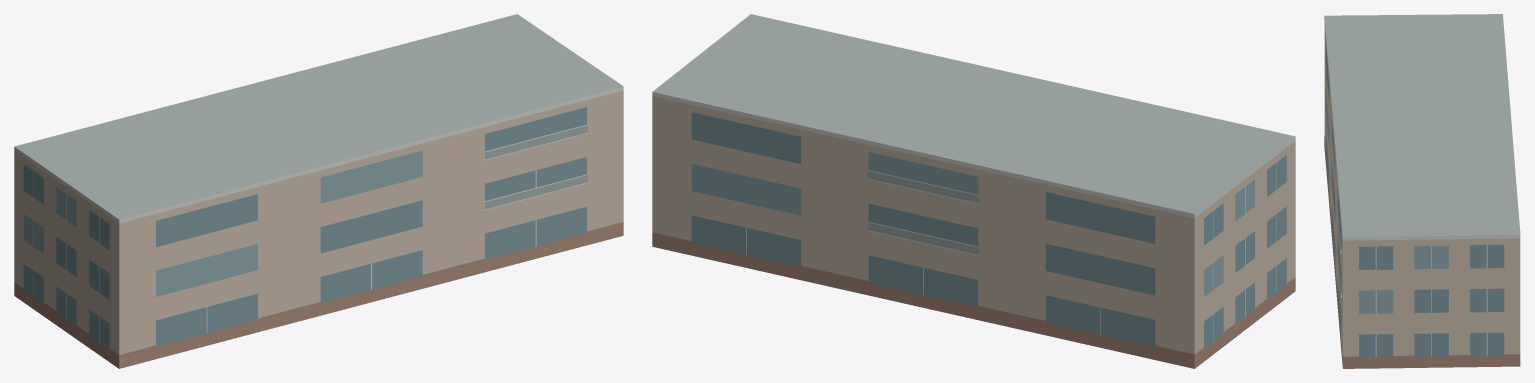
File: survey-upis-32768479.glb
The picture shows the model from 3 angles, left to right: view 1: azimuth 30°, elevation 25°; view 2: azimuth 150°, elevation 25°; view 3: azimuth 270°, elevation 25°; orthographic projection. The views are drawn at different scales.
Visible parts, largest first — view 1: survey-upis-32768479.tmp; view 2: survey-upis-32768479.tmp; view 3: survey-upis-32768479.tmp.
Part boxes in pixels (box(x1,y1,x2,y2)): survey-upis-32768479.tmp: box(14, 14, 623, 368); survey-upis-32768479.tmp: box(652, 14, 1295, 368); survey-upis-32768479.tmp: box(1324, 14, 1520, 368).
Size of the model in its own units: 33.27 by 9.15 by 12.35.
